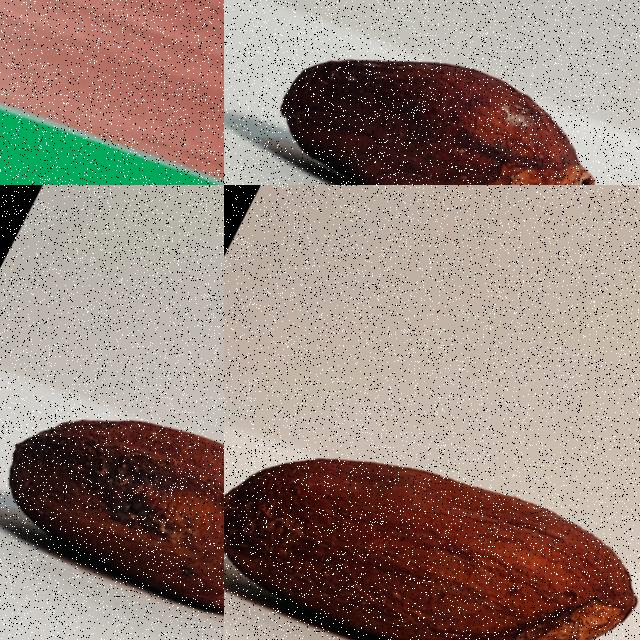Fine_cocoabeans: (224, 318, 639, 639), (224, 0, 639, 184), (0, 326, 223, 639)
